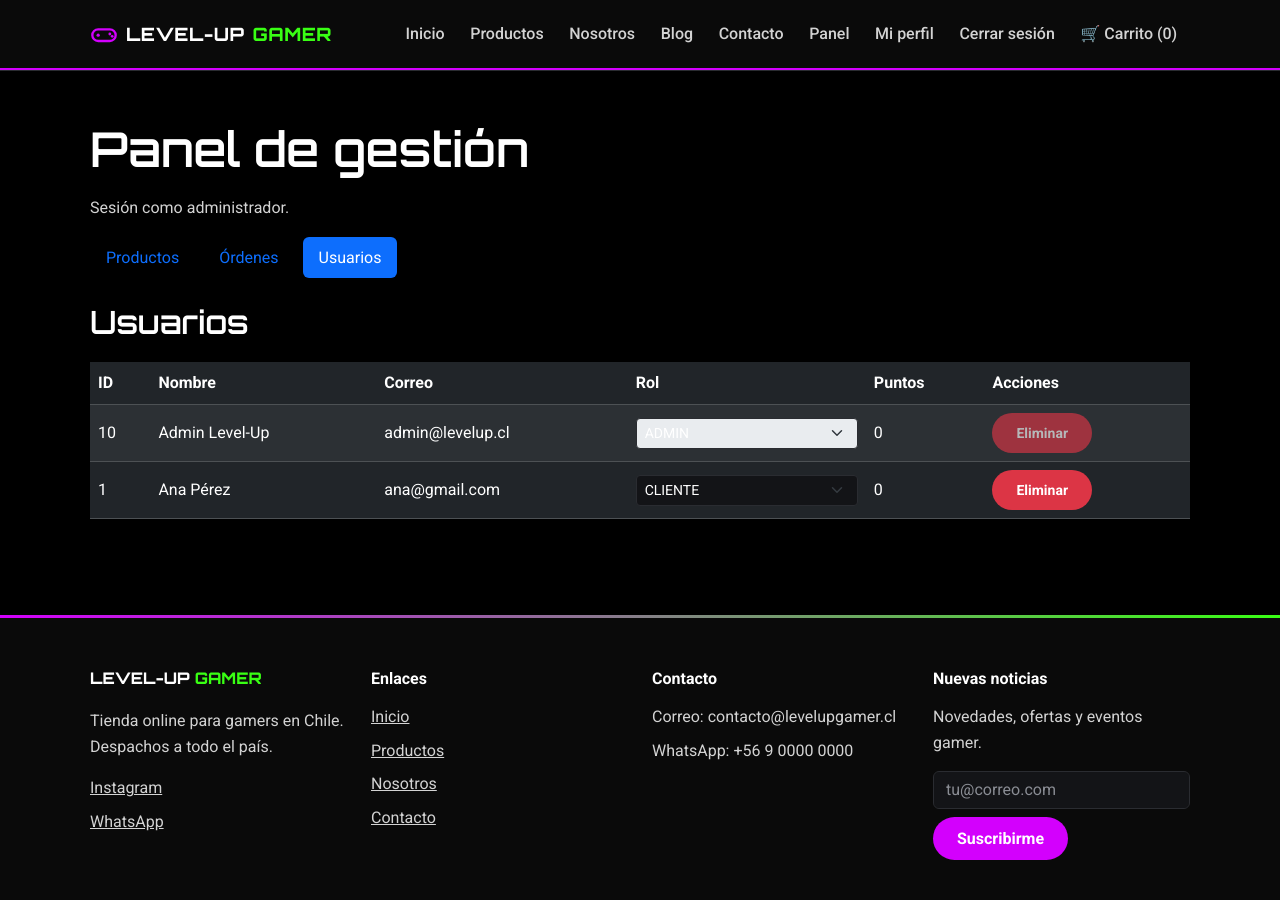
Test: Panel · usuarios › el ADMIN cambia el rol de otro usuario (PUT /usuarios/:id/rol)
Select "VENDEDOR" in the dropdown named "Rol de Ana" at (747, 490), box left=636, top=475, right=858, bottom=506
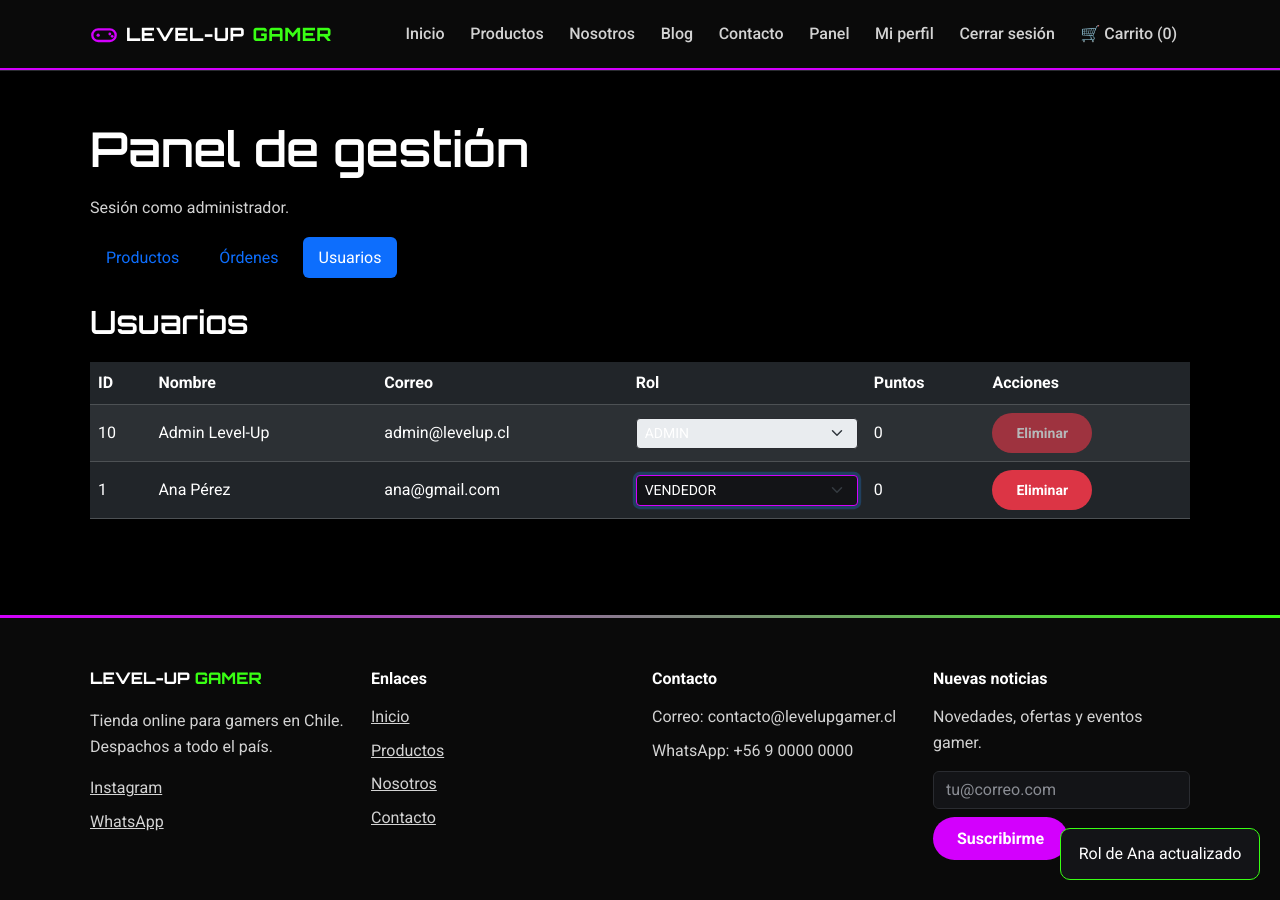
Check: the text "Rol de Ana actualizado" is shown, box left=1060, top=828, right=1260, bottom=880
